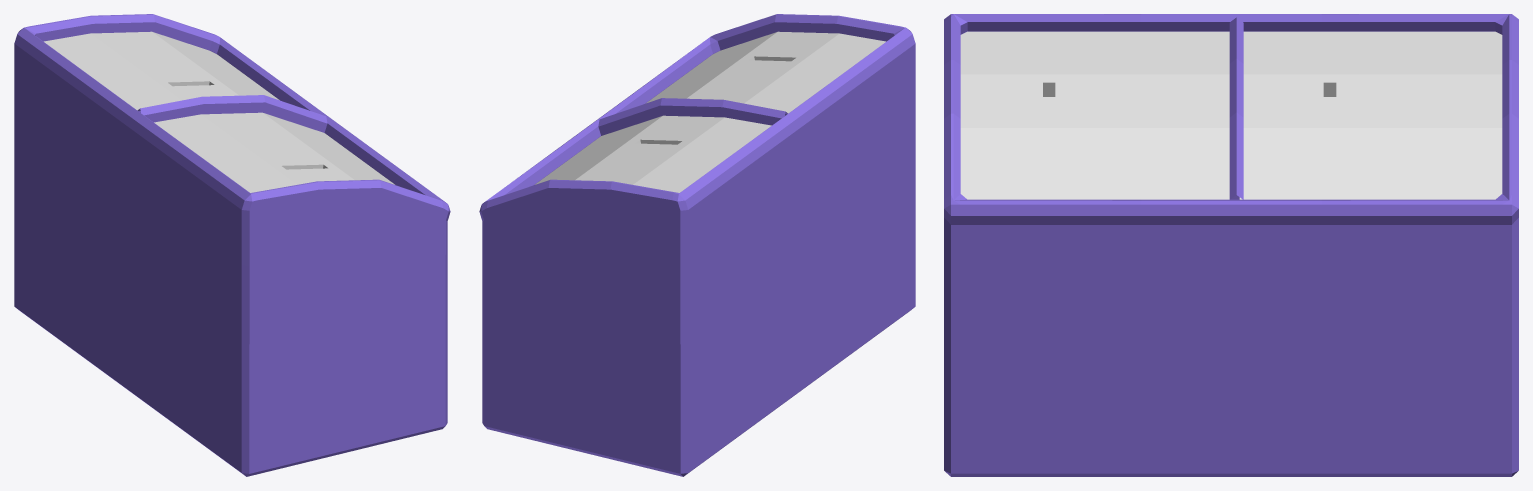
Rendered from market_freezer_edited.fbx.
3 views of the same model, side by side, from view 1: azimuth 30°, elevation 25°; view 2: azimuth 150°, elevation 25°; view 3: azimuth 270°, elevation 25° (orthographic). The views are drawn at different scales.
Visible parts, largest first — view 1: Freezer, Glass, Glass.001; view 2: Freezer, Glass, Glass.001; view 3: Freezer, Glass, Glass.001.
Boxes of the visible parts, left/top/right/bottom form: Freezer: left=14, top=14, right=450, bottom=476; Glass: left=154, top=112, right=394, bottom=192; Glass.001: left=44, top=31, right=279, bottom=110; Freezer: left=479, top=14, right=915, bottom=476; Glass: left=646, top=31, right=885, bottom=113; Glass.001: left=535, top=115, right=771, bottom=192; Freezer: left=944, top=14, right=1518, bottom=476; Glass: left=960, top=31, right=1229, bottom=199; Glass.001: left=1239, top=31, right=1502, bottom=199.
Bounding box in the file's own units: 3604 × 4649 × 6963.
